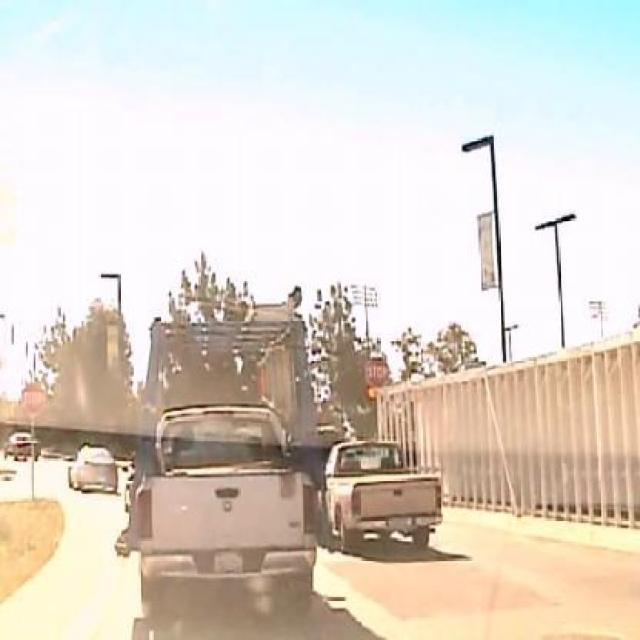stop: (364, 357, 390, 389)
